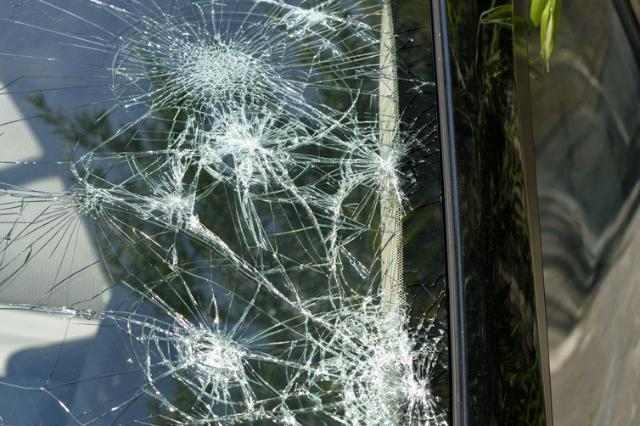Windshield: (1, 0, 464, 426)
